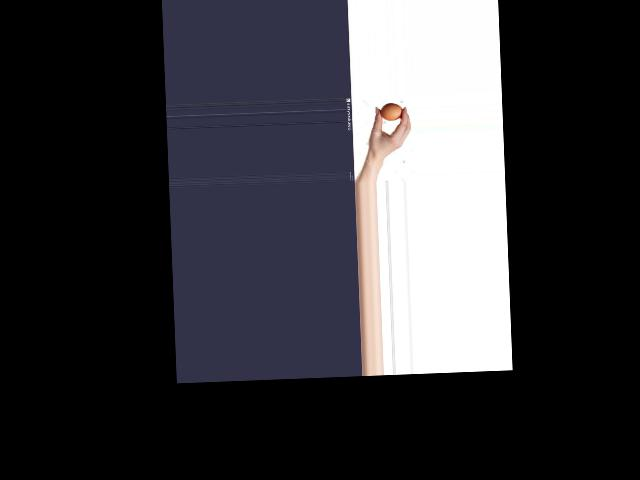egg: (380, 103, 402, 121)
